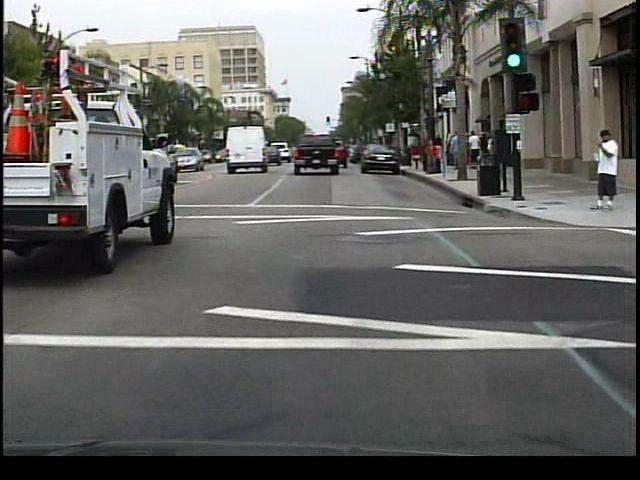person: (588, 126, 623, 210), (420, 137, 441, 178)
